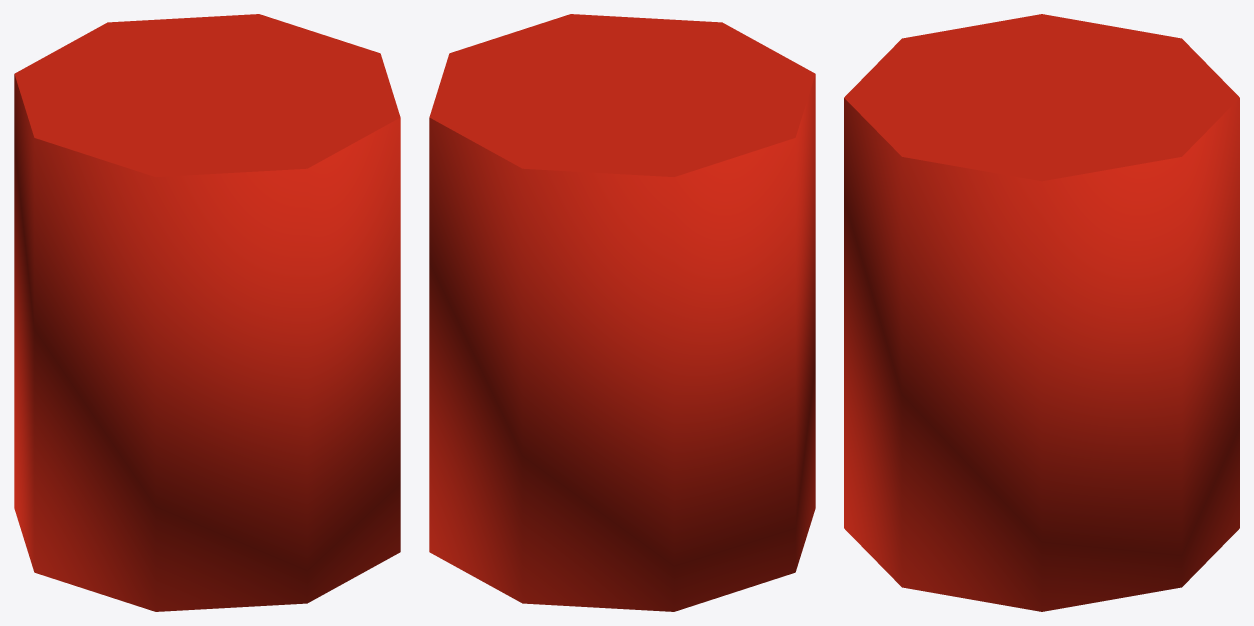
The model's file is OilDrum.fbx.
The picture shows the model from 3 angles, left to right: view 1: azimuth 30°, elevation 25°; view 2: azimuth 150°, elevation 25°; view 3: azimuth 270°, elevation 25°; orthographic projection.
Parts seen in each view (by area): view 1: Oil_Drum; view 2: Oil_Drum; view 3: Oil_Drum.
Boxes of the visible parts, x1=… form: Oil_Drum: x1=14, y1=14, x2=400, y2=611; Oil_Drum: x1=429, y1=14, x2=815, y2=611; Oil_Drum: x1=844, y1=14, x2=1239, y2=611.
Bounding box in the file's own units: 100 × 120 × 100.
